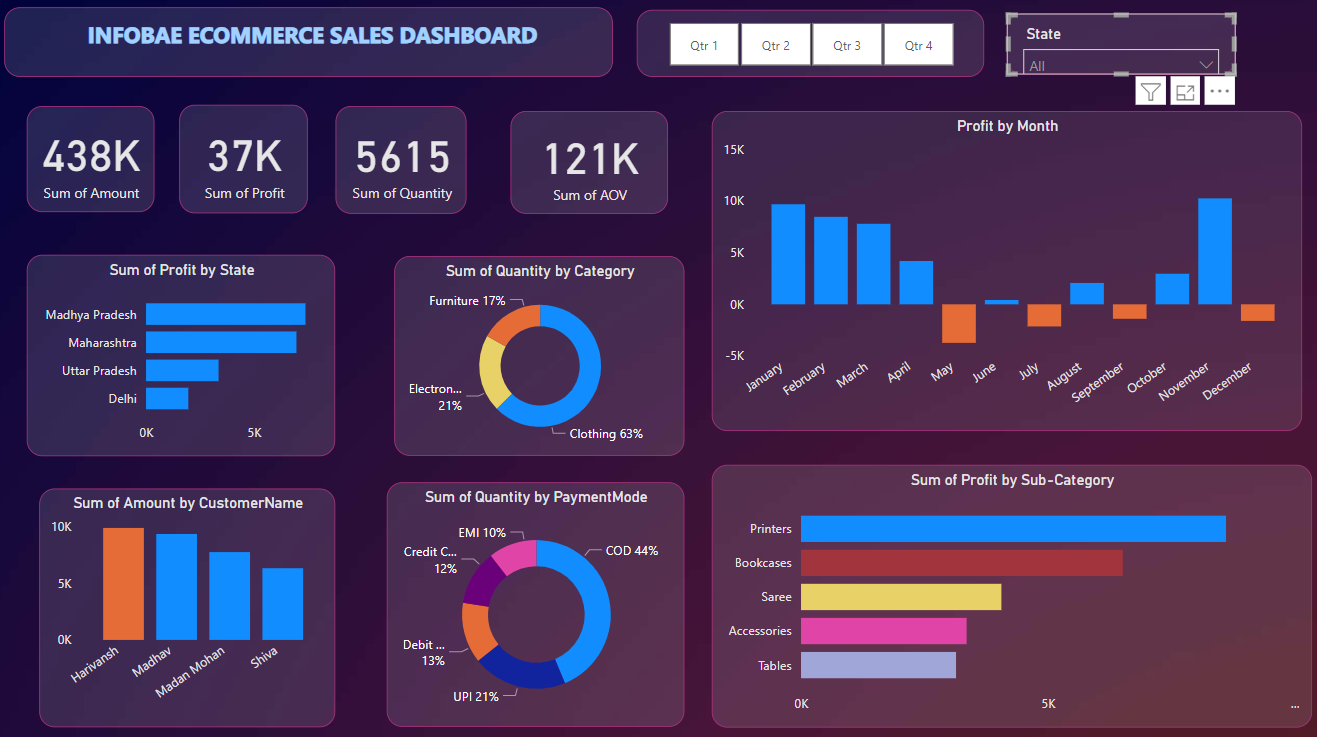

This screenshot's page, from the dashboard's own definition file:
{"tool":"powerbi","page":{"name":"Page 1","canvas":[1280,720],"ordinal":0},"visuals":[{"type":"textbox","box":[9.6,0,587.9,68],"z":0},{"type":"columnChart","title":"Profit by Month","fields":{"Category":["Orders.Order Date.Variation.Date Hierarchy.Month"],"Y":["Sum(Details.Profit)"]},"box":[693.7,95.2,569,309.3],"z":1000},{"type":"barChart","fields":{"Category":["Details.Sub-Category"],"Y":["Sum(Details.Profit)"]},"box":[684.2,438.7,578.9,253.6],"z":2000},{"type":"donutChart","fields":{"Category":["Details.Category"],"Y":["Sum(Details.Quantity)"]},"box":[379.8,218,279.7,192.8],"z":3000},{"type":"donutChart","fields":{"Category":["Details.PaymentMode"],"Y":["Sum(Details.Quantity)"]},"box":[374.3,460.4,286.5,236.1],"z":4000},{"type":"card","fields":{"Values":["Sum(Details.Amount)"]},"box":[29.3,93.5,122,102.8],"z":5000},{"type":"card","fields":{"Values":["Sum(Details.Quantity)"]},"box":[330.7,91.6,126.1,104.2],"z":6000},{"type":"card","fields":{"Values":["Sum(Details.Profit)"]},"box":[175.8,94.6,124.8,104.2],"z":7000},{"type":"card","fields":{"Values":["Sum(Details.AOV)"]},"box":[492.2,96,152.2,99.3],"z":8000},{"type":"barChart","fields":{"Category":["Orders.State"],"Y":["Sum(Details.Profit)"]},"box":[28.8,218,297.5,194.7],"z":9000},{"type":"columnChart","fields":{"Category":["Orders.CustomerName"],"Y":["Sum(Details.Amount)"]},"box":[26,467.3,286.5,229.2],"z":10000},{"type":"slicer","fields":{"Values":["Orders.Order Date.Variation.Date Hierarchy.Quarter"]},"box":[615.9,4.1,335.9,64.4],"z":11000},{"type":"slicer","fields":{"Values":["Orders.State"]},"box":[976.2,11,220.7,59],"z":12000}]}

Visuals, with their boxes in screenshot pixels (x1, y1, x2, y2), scaled from the page's 1280x720 canvas onto the 1317x737 screenshot:
textbox: <bbox>10, 0, 615, 70</bbox>
"Profit by Month" columnChart: <bbox>714, 97, 1299, 414</bbox>
barChart - Details.Sub-Category x Sum(Details.Profit): <bbox>704, 449, 1300, 709</bbox>
donutChart - Details.Category x Sum(Details.Quantity): <bbox>391, 223, 679, 420</bbox>
donutChart - Details.PaymentMode x Sum(Details.Quantity): <bbox>385, 471, 680, 713</bbox>
card - Sum(Details.Amount): <bbox>30, 96, 156, 201</bbox>
card - Sum(Details.Quantity): <bbox>340, 94, 470, 200</bbox>
card - Sum(Details.Profit): <bbox>181, 97, 309, 203</bbox>
card - Sum(Details.AOV): <bbox>506, 98, 663, 200</bbox>
barChart - Orders.State x Sum(Details.Profit): <bbox>30, 223, 336, 422</bbox>
columnChart - Orders.CustomerName x Sum(Details.Amount): <bbox>27, 478, 322, 713</bbox>
slicer - Orders.Order Date.Variation.Date Hierarchy.Quarter: <bbox>634, 4, 979, 70</bbox>
slicer - Orders.State: <bbox>1004, 11, 1231, 72</bbox>
